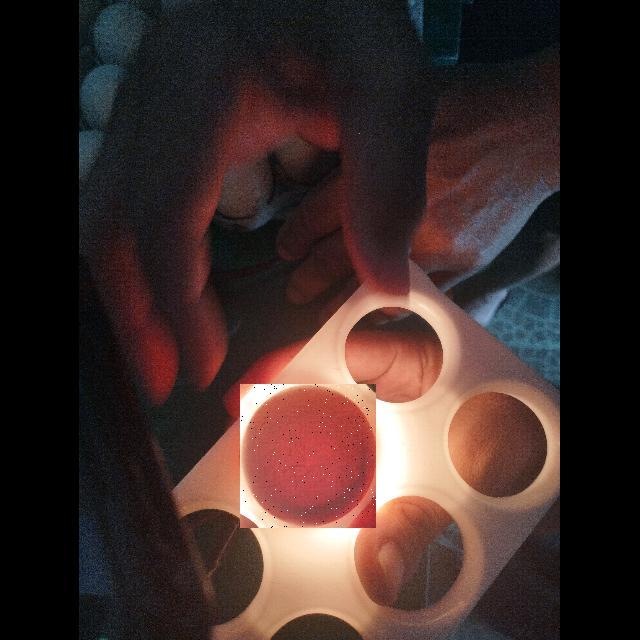A - Good: (240, 384, 376, 528)
